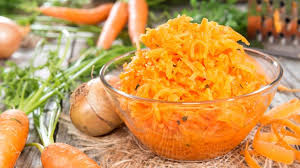carrot: (99, 1, 126, 51), (59, 2, 108, 28), (127, 5, 146, 43)
